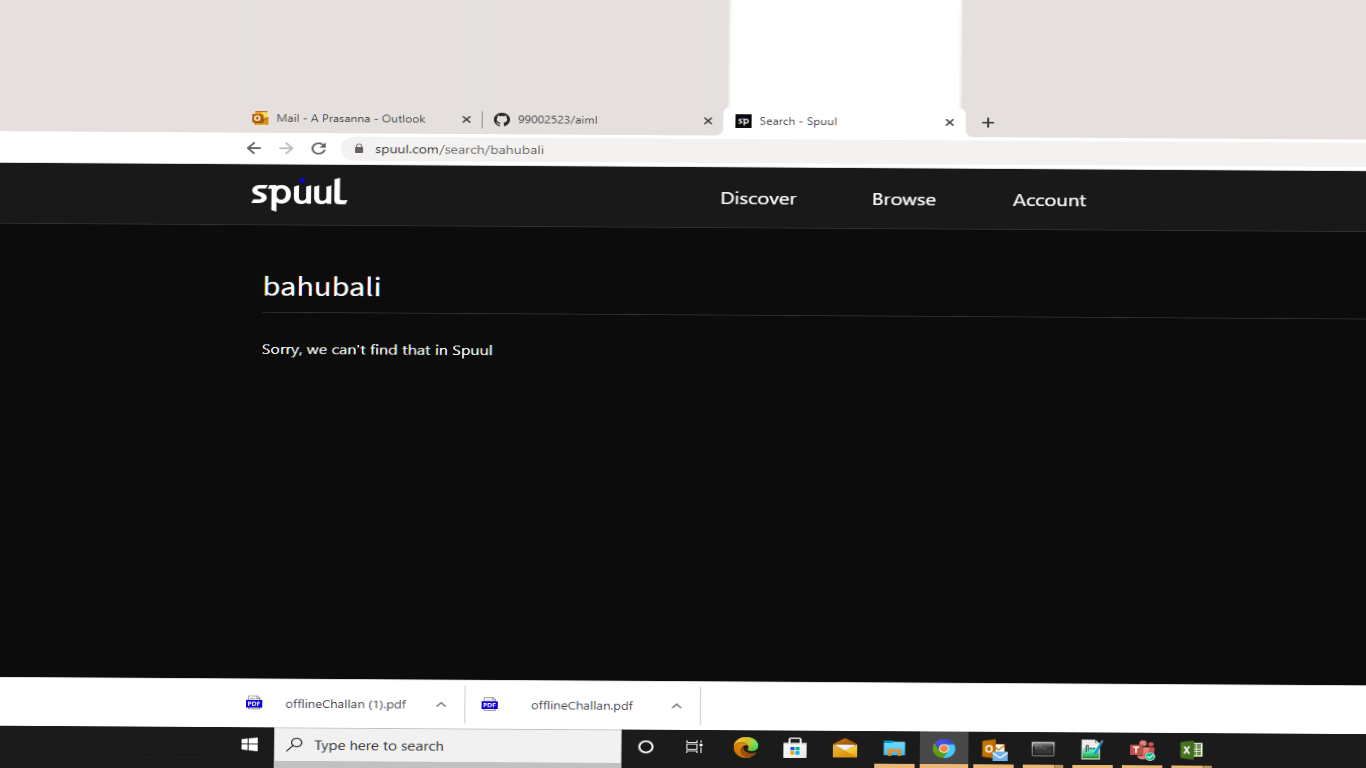myaccountbutton: (992, 174, 1120, 227)
noresultsfound: (244, 333, 551, 372)
searchtextbox: (226, 234, 1346, 335)
